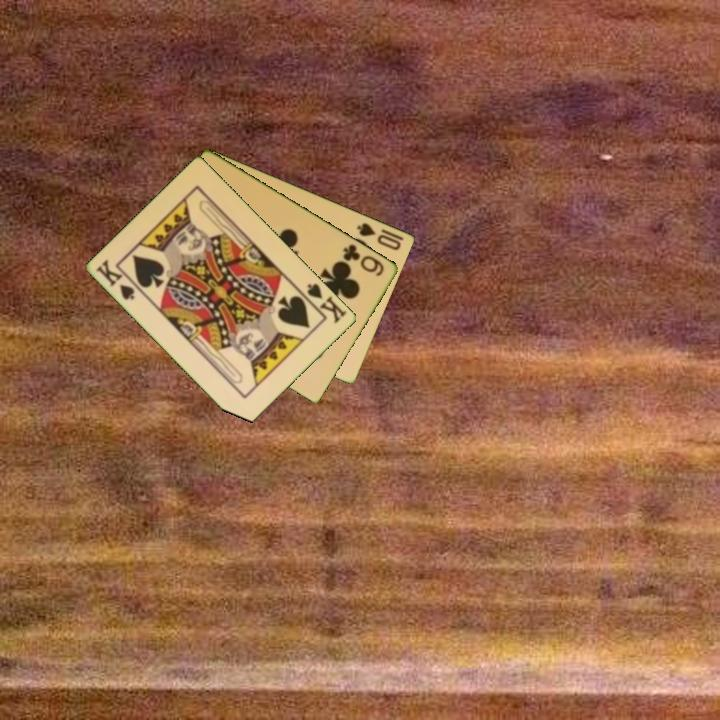10s: (354, 219, 404, 253)
6c: (340, 240, 387, 279)
Ks: (304, 279, 350, 326), (93, 256, 138, 303)
